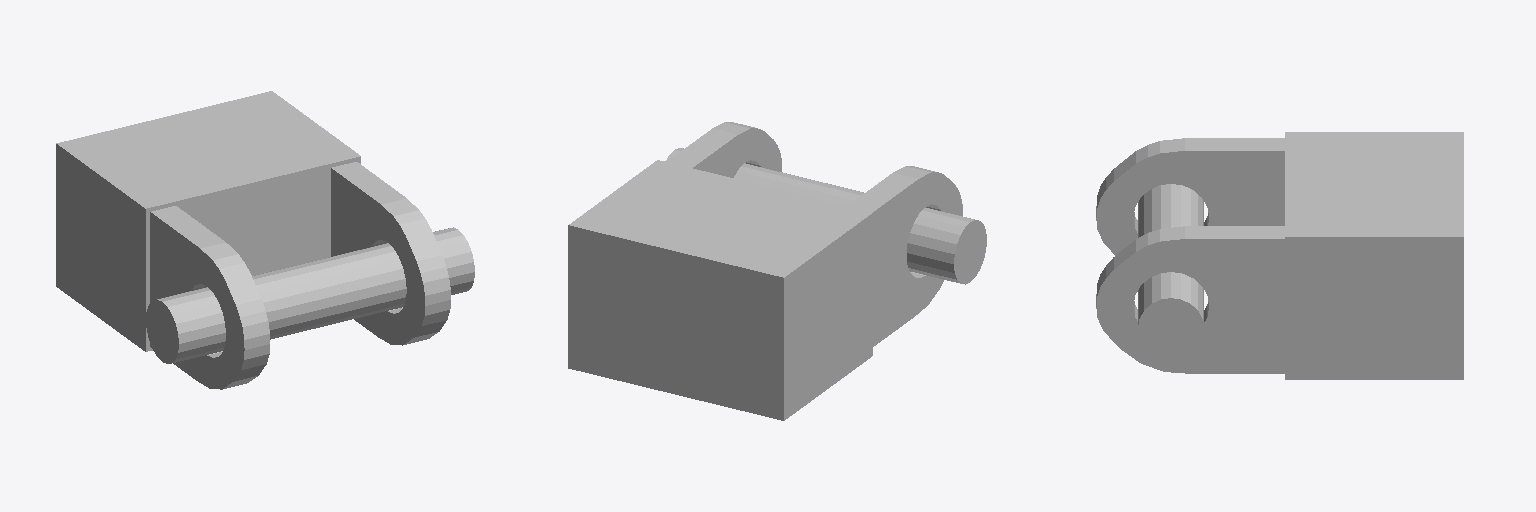
The model's file is univJointRight.obj.
3 renders of one model, left to right at view 1: azimuth 30°, elevation 25°; view 2: azimuth 150°, elevation 25°; view 3: azimuth 270°, elevation 25°, orthographic.
Parts seen in each view (by area): view 1: pCube1 group5 group6, group5 group6 pCylinder2, group5 group6 polySurface3 group3, group5 group6 group3 polySurface4; view 2: pCube1 group5 group6, group5 group6 polySurface3 group3, group5 group6 pCylinder2, group5 group6 group3 polySurface4; view 3: pCube1 group5 group6, group5 group6 group3 polySurface4, group5 group6 polySurface3 group3, group5 group6 pCylinder2.
Part boxes in pixels (left/top/right/bottom): pCube1 group5 group6: left=56, top=91, right=360, bottom=351; group5 group6 pCylinder2: left=146, top=227, right=474, bottom=363; group5 group6 polySurface3 group3: left=150, top=206, right=269, bottom=389; group5 group6 group3 polySurface4: left=331, top=162, right=450, bottom=345; pCube1 group5 group6: left=568, top=160, right=872, bottom=420; group5 group6 polySurface3 group3: left=848, top=166, right=962, bottom=346; group5 group6 pCylinder2: left=665, top=148, right=986, bottom=284; group5 group6 group3 polySurface4: left=667, top=122, right=781, bottom=177; pCube1 group5 group6: left=1285, top=132, right=1463, bottom=379; group5 group6 group3 polySurface4: left=1096, top=226, right=1284, bottom=373; group5 group6 polySurface3 group3: left=1096, top=138, right=1284, bottom=255; group5 group6 pCylinder2: left=1138, top=184, right=1203, bottom=357.
Size of the model in its own units: 2.67 by 1.23 by 2.86.